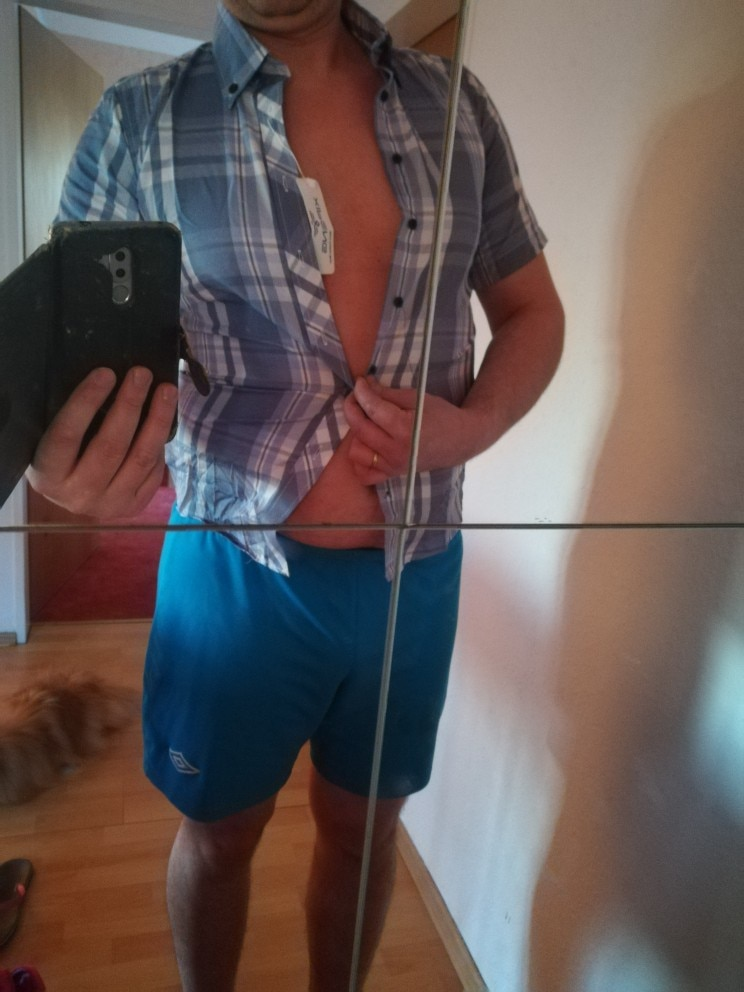shirts: (80, 33, 542, 584)
